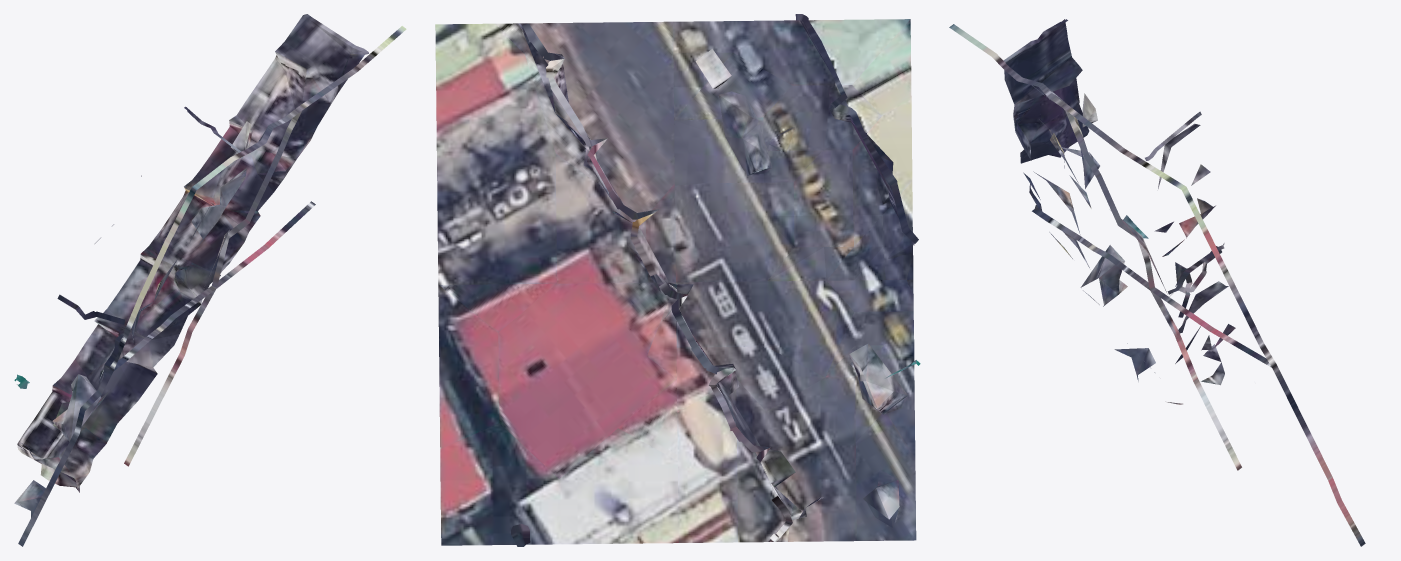
The picture shows the model from 3 angles, left to right: view 1: azimuth 30°, elevation 25°; view 2: azimuth 150°, elevation 25°; view 3: azimuth 270°, elevation 25°; orthographic projection. The views are drawn at different scales.
Bounding box in the file's own units: 38.39 × 37.76 × 33.86.
1 material, 1 textured.
